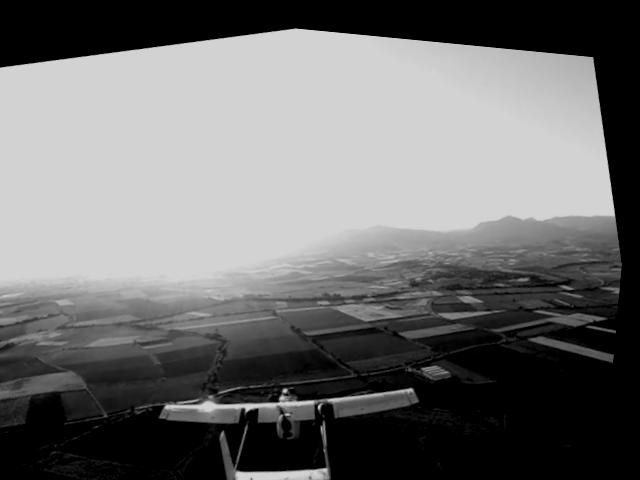hedef: (149, 325, 452, 480)
